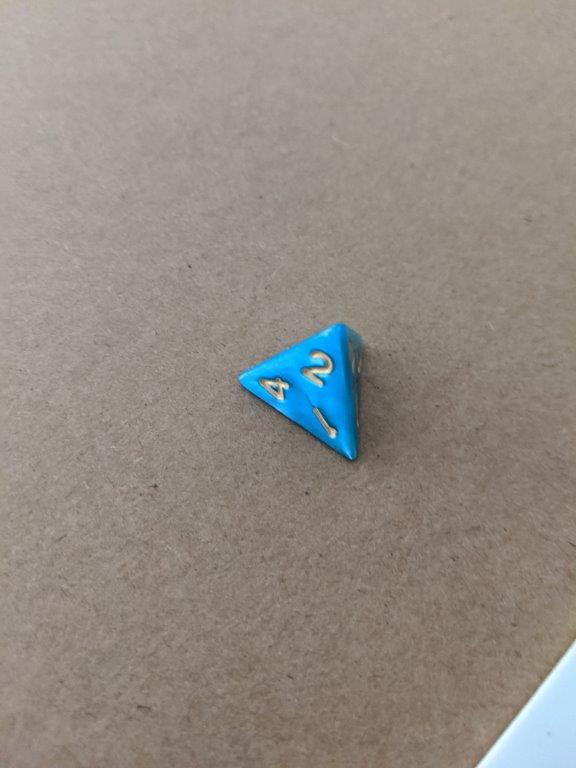d4-2: (237, 317, 370, 473)
